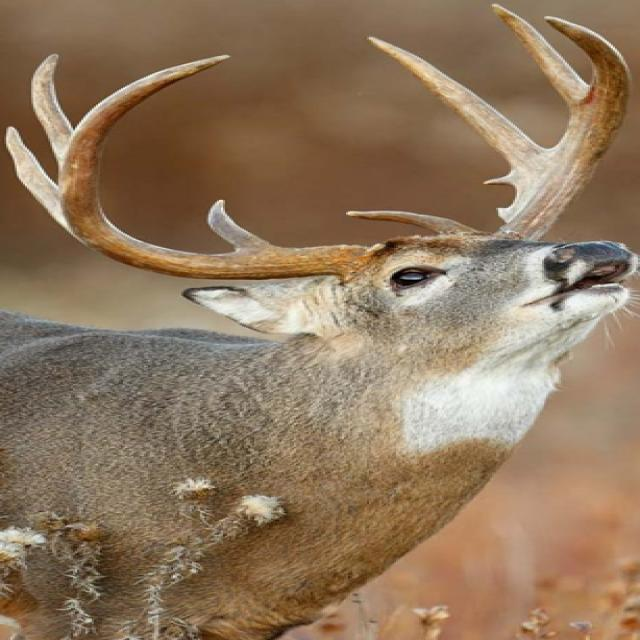E1: (479, 171, 516, 187)
L-G1: (342, 210, 493, 235)
L-G2: (364, 35, 549, 170)
L-G3: (487, 2, 590, 113)
R-F: (60, 54, 388, 284)
R-G1: (203, 198, 283, 252)
R-G2: (5, 123, 91, 249)
R-G3: (29, 51, 74, 178)
